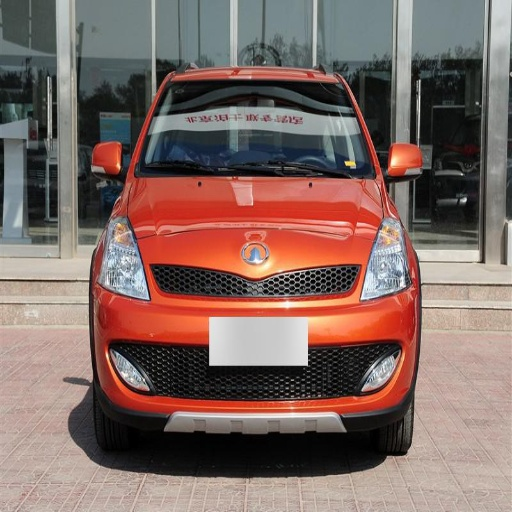front_bumper: (110, 263, 418, 428)
hood: (131, 176, 386, 266)
left_mirror: (387, 144, 422, 182)
right_mirror: (93, 142, 124, 179)
trunk: (117, 215, 306, 342)
